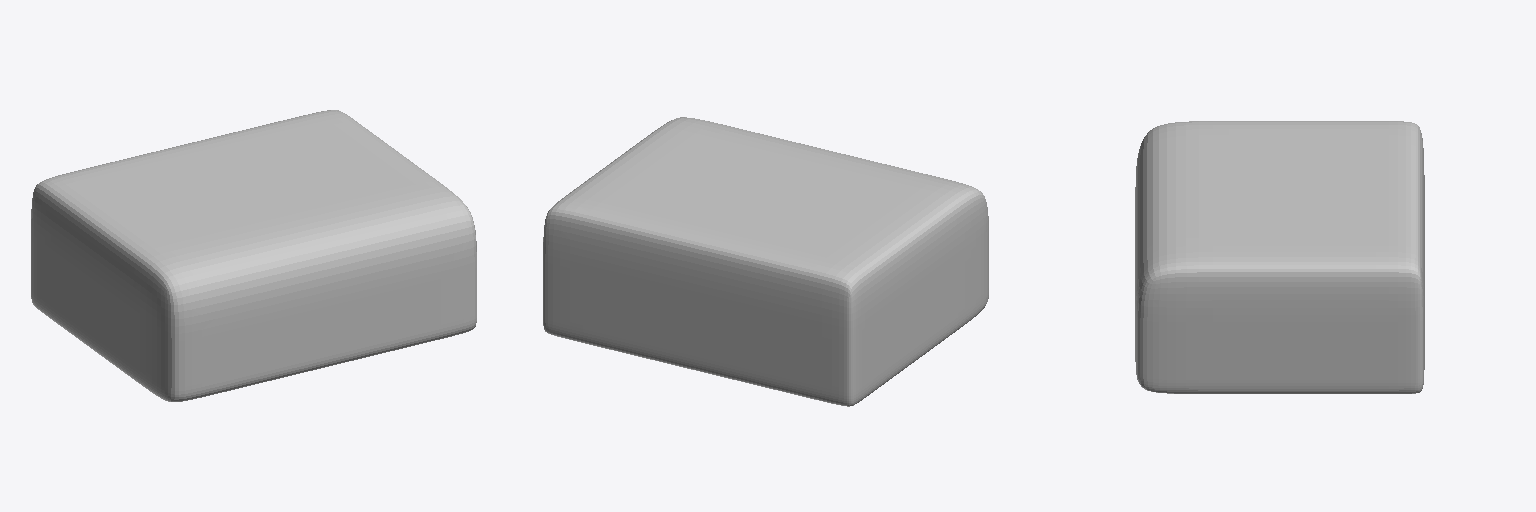
File: sofa01.obj
3 views of the same model, side by side, from view 1: azimuth 30°, elevation 25°; view 2: azimuth 150°, elevation 25°; view 3: azimuth 270°, elevation 25° (orthographic).
Parts seen in each view (by area): view 1: Cube; view 2: Cube; view 3: Cube.
Part boxes in pixels (x1,y1,x2,y2): Cube: (31,110,476,401); Cube: (543,117,988,406); Cube: (1135,121,1424,393).
Bounding box in the file's own units: 1 × 0.4 × 0.8.